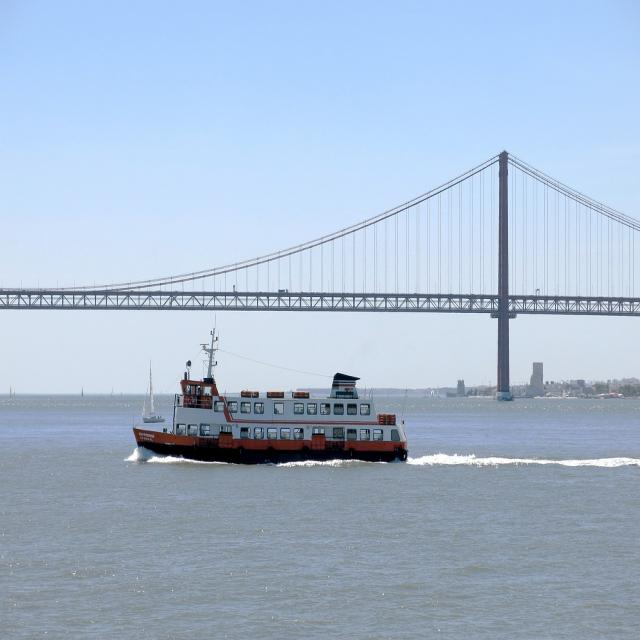ship: (126, 323, 414, 468)
